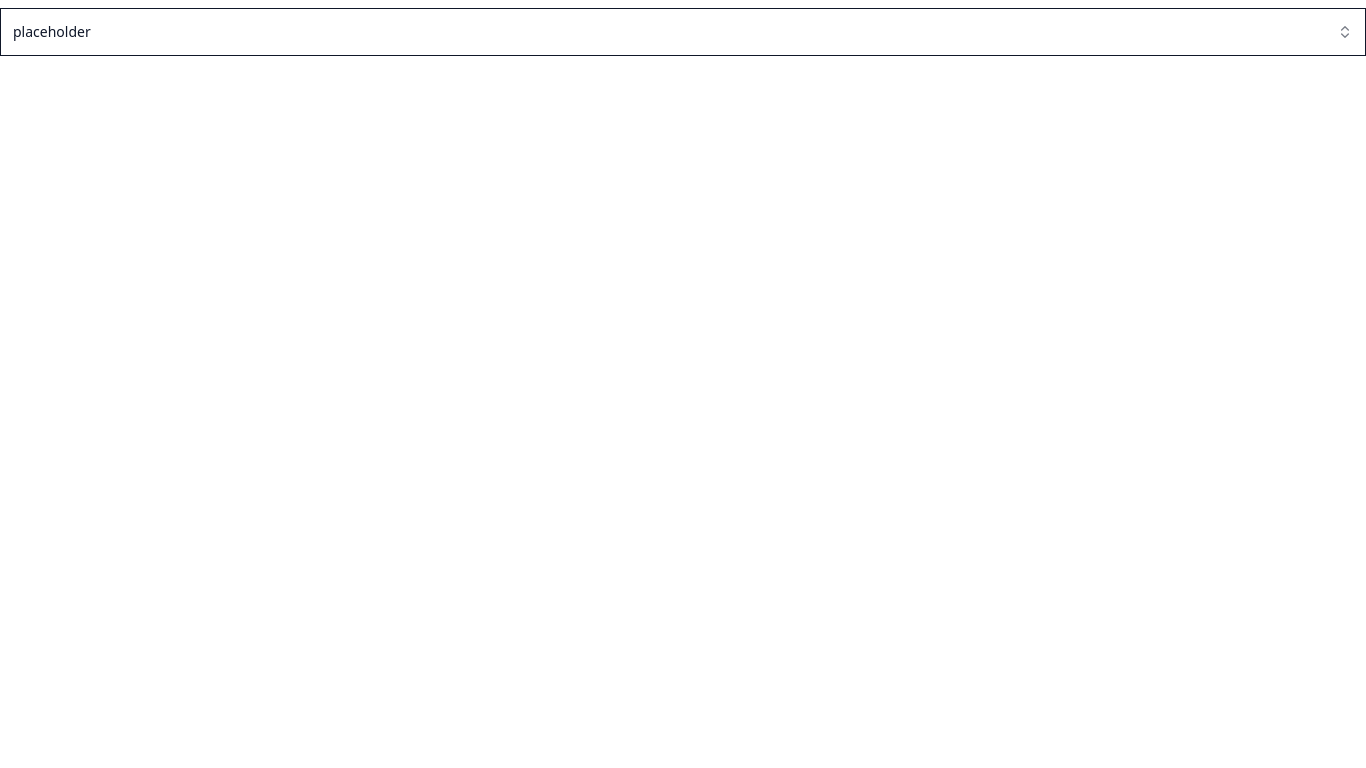
Test case: ProblemSearchCombobox › offers a keyboard-sized retry action after a failed search
Click the dropdown. click: [52, 31]
box: [0,8,1365,56]
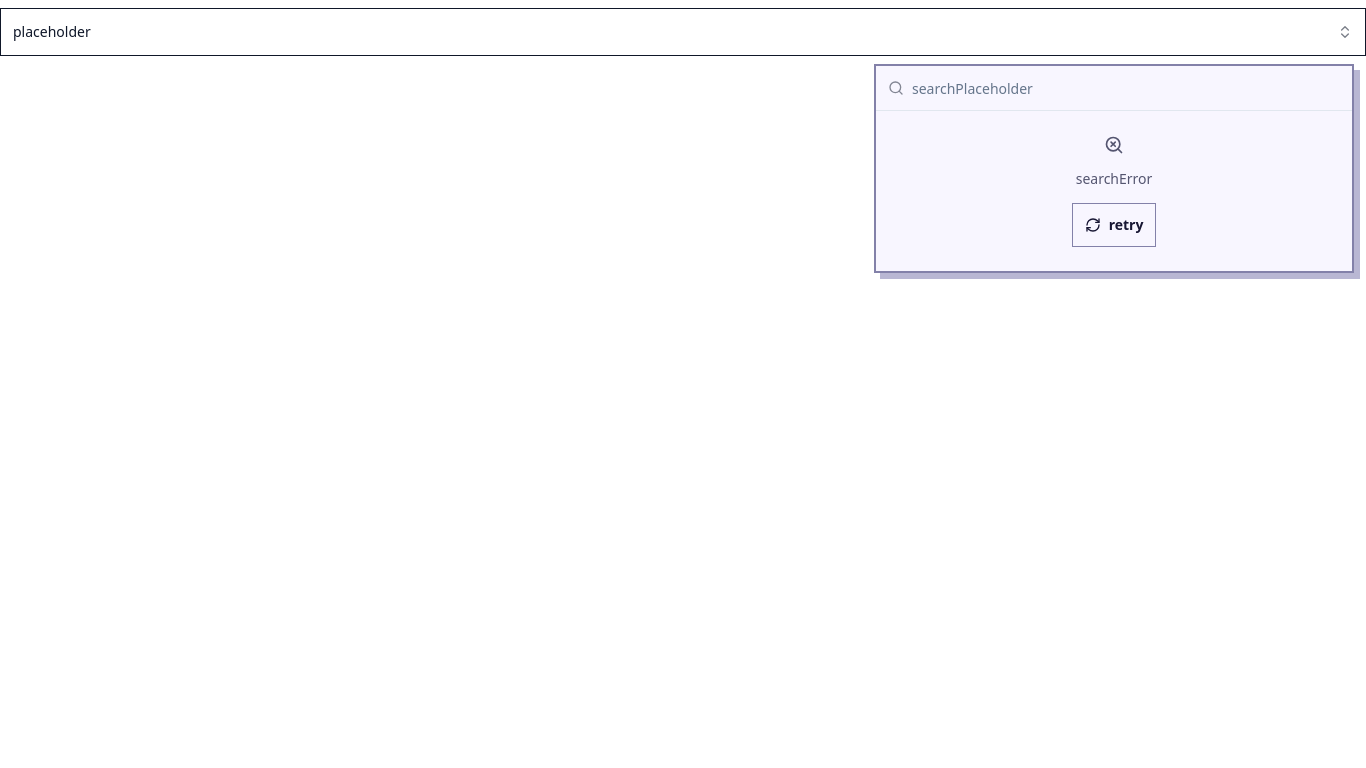
Click the button "retry". click: [1114, 225]
box: [1072,203,1156,247]
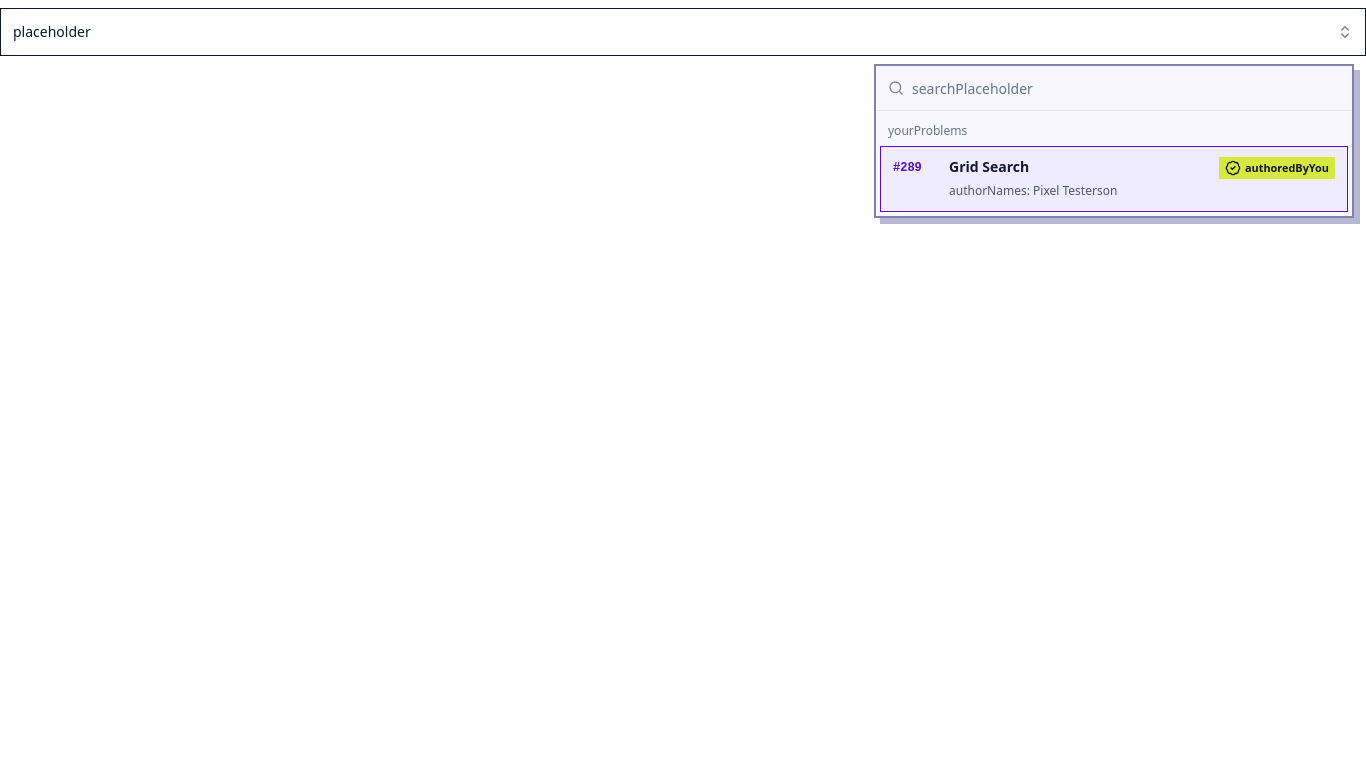
Expected: the text "Grid Search" is shown, [949,157,1029,176]
